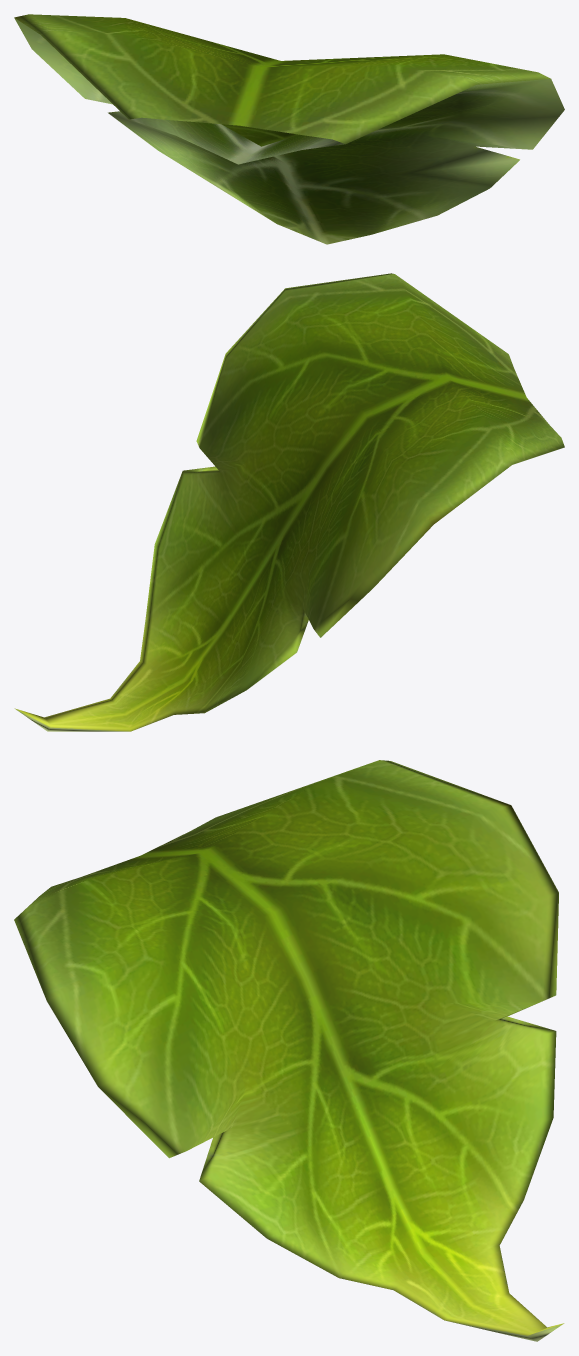
Rendered from sunflower2_hoja_tras_izq.obj.
3 renders of one model, top to bottom at view 1: azimuth 30°, elevation 25°; view 2: azimuth 150°, elevation 25°; view 3: azimuth 270°, elevation 25°, orthographic. The views are drawn at different scales.
Visible parts, largest first — view 1: sunflower2_hoja_tras_izq; view 2: sunflower2_hoja_tras_izq; view 3: sunflower2_hoja_tras_izq.
Boxes of the visible parts, left/top/right/bottom form: sunflower2_hoja_tras_izq: left=14, top=14, right=564, bottom=244; sunflower2_hoja_tras_izq: left=14, top=273, right=564, bottom=731; sunflower2_hoja_tras_izq: left=14, top=760, right=564, bottom=1341.
Bounding box in the file's own units: 0.3899 × 0.2919 × 0.3893.
